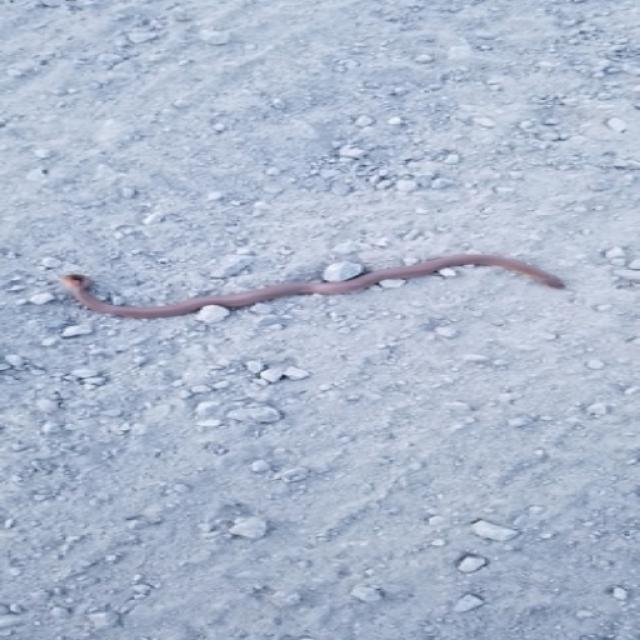snake: (54, 250, 597, 320)
